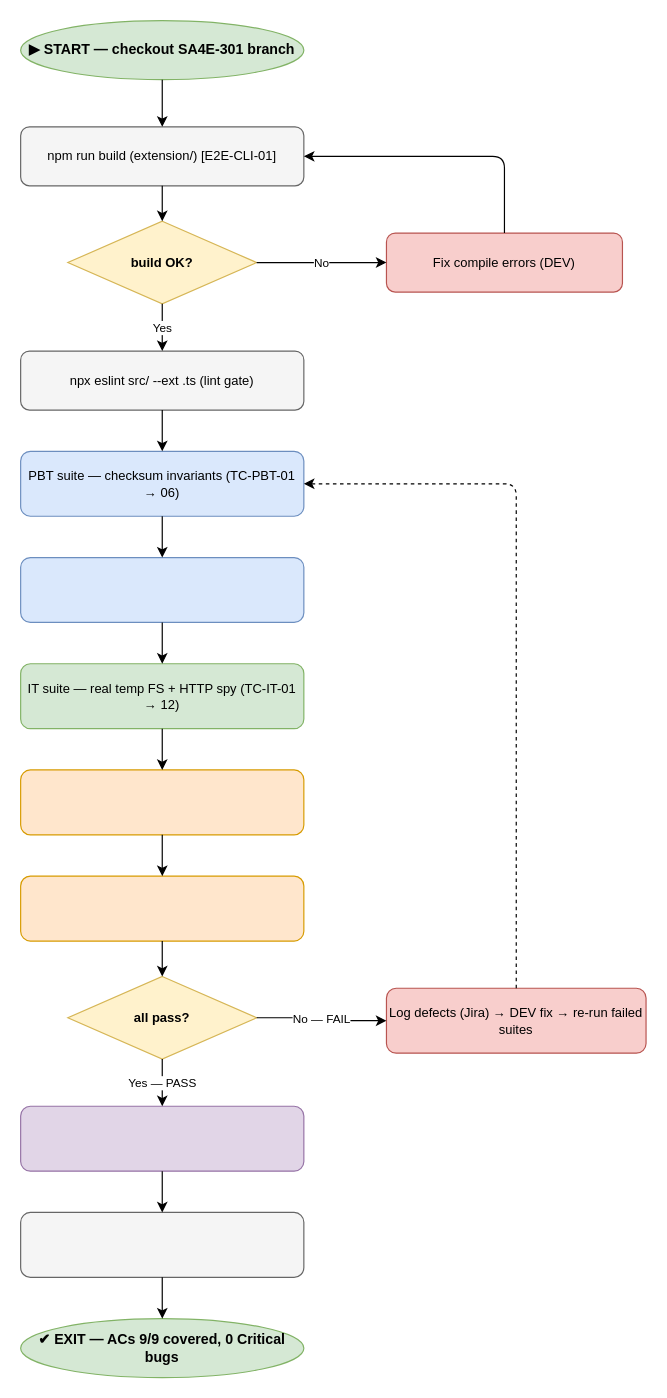
Some shapes in this 667 by 1398 pixel diagram are drawn without their labels. Here are the shapes that lost their labels. From the top down, the box of each, then its label:
(19, 556, 304, 622): UT suite — resolver + manifest + config (TC-UT-01 → 11)
(19, 769, 304, 835): E2E-API suite — full lifecycle (TC-E2E-API-01 → 04)
(19, 875, 304, 941): E2E-CLI — npm test full suite (TC-E2E-CLI-02)
(19, 1105, 304, 1171): Manual SIT in IDE (TC-SIT-01 → 04)
(19, 1211, 304, 1277): Generate TEST-REPORT + update TEST-REPORT CSV
